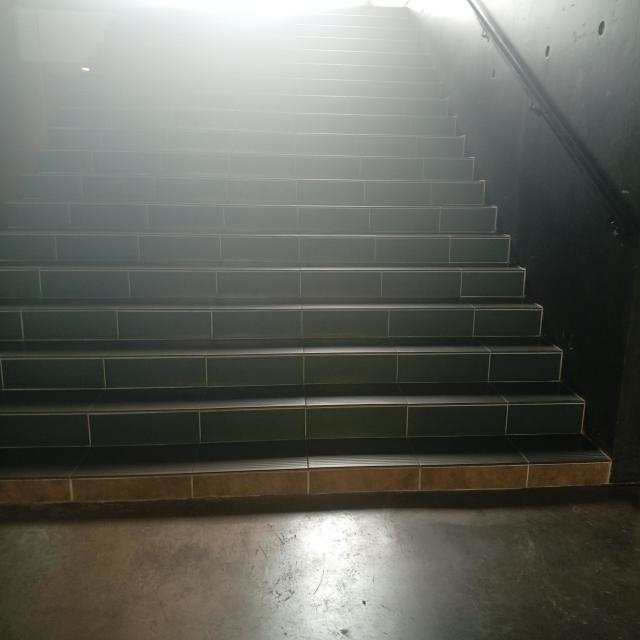Stairs: (1, 202, 625, 543)
